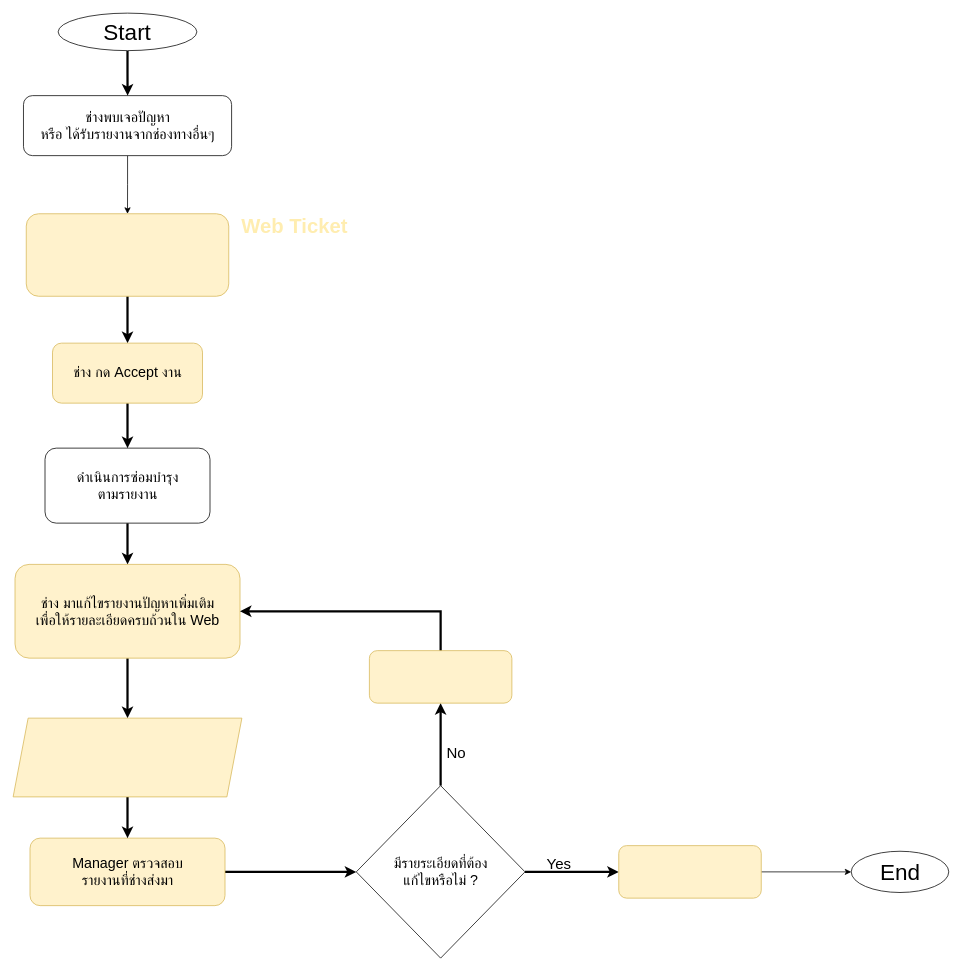
Some shapes in this 962 by 971 pixel diagram are drawn without their labels. Each missing label, with the centre of its shape:
"Manager approv" belongs at point (689, 871).
"Manager reject" belongs at point (440, 676).
"ช่าง Add case เอง กรอกรายระเอียดใน issue ticket" belongs at point (127, 254).
"ทำการกดจบงาน ส่ง รายงานการซ่อมบำรุง ไปยัง Manager" belongs at point (127, 757).
